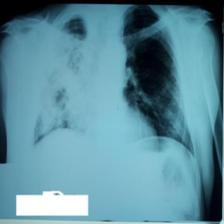tuberculosis: (24, 5, 200, 193)
